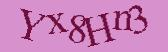3: (128, 5, 147, 33)
8: (68, 15, 86, 42)
H: (80, 13, 115, 46)
Y: (20, 8, 48, 40)
n: (112, 10, 132, 30)
x: (45, 13, 68, 33)
